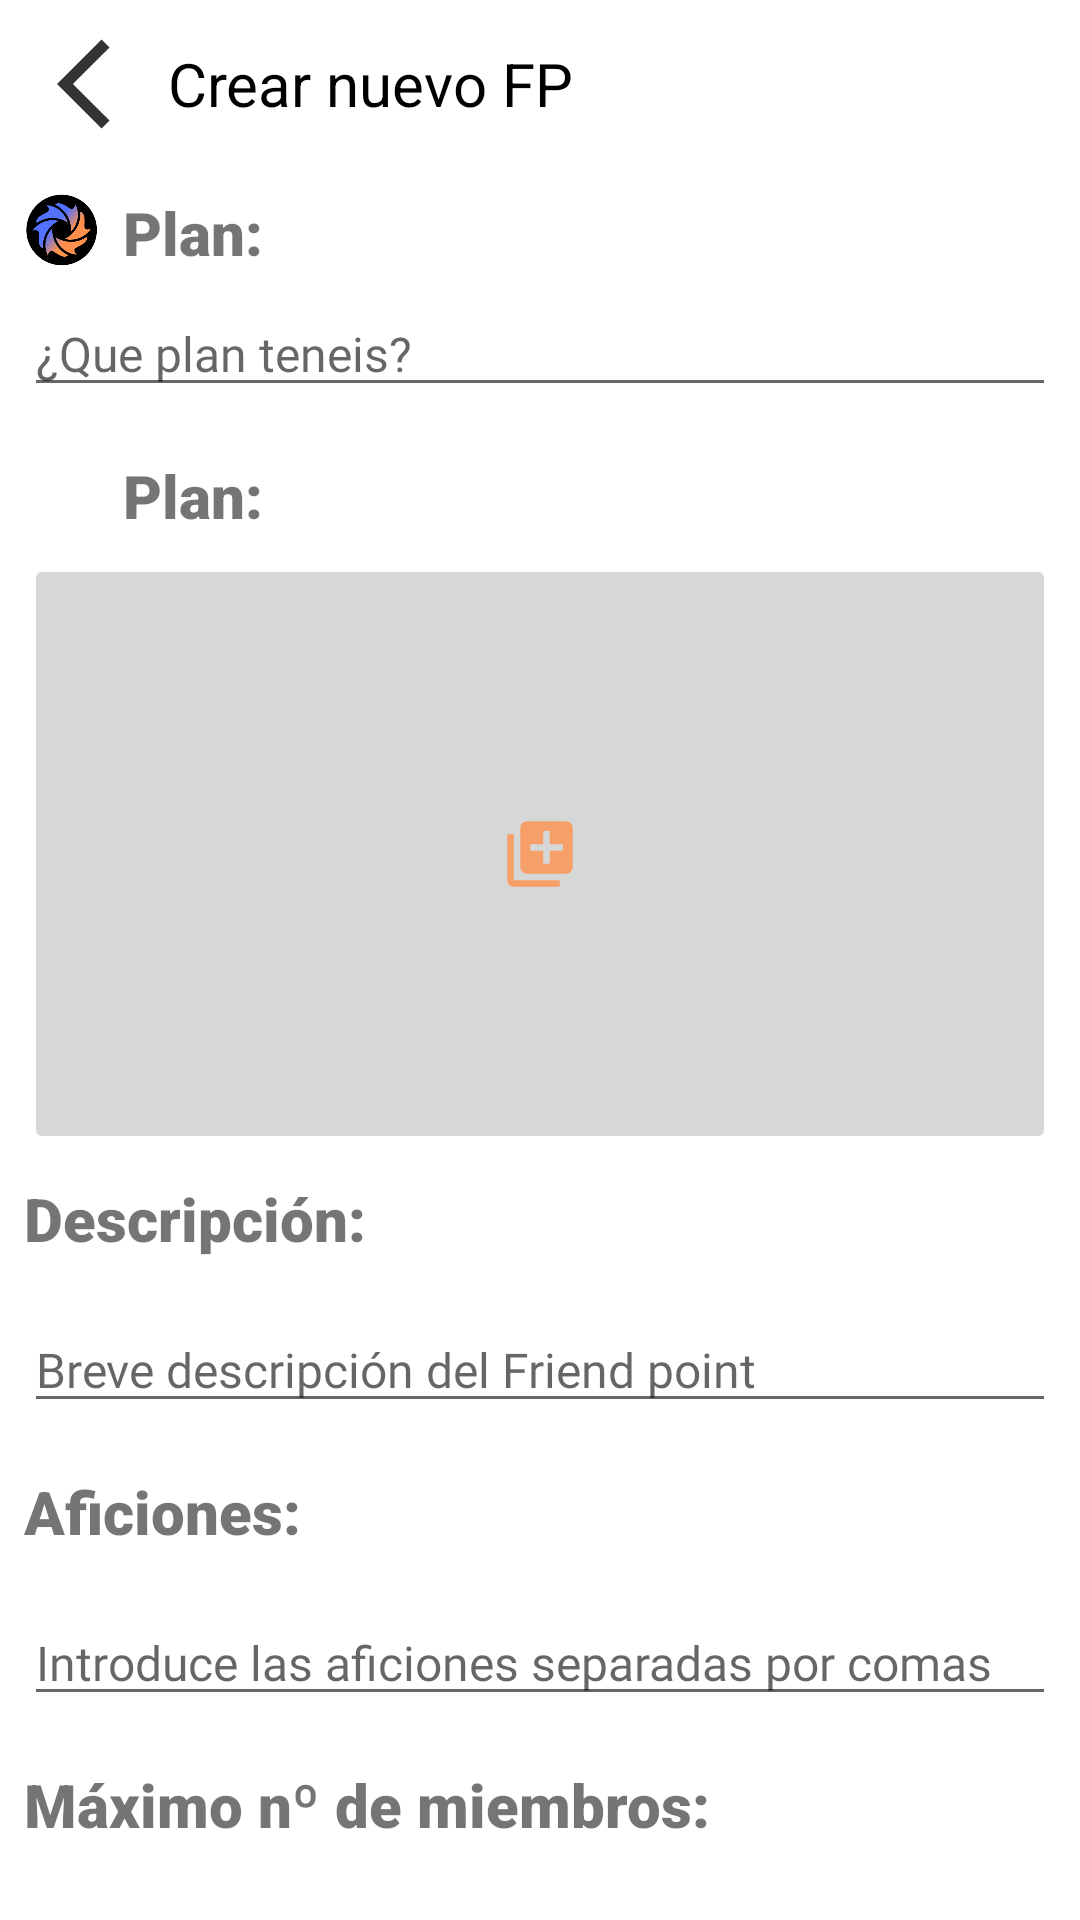

Locate icon controls on the screen. Image size 1080*1920, boxes as (x1, y1, x2, y2).
back: (57, 39, 110, 129)
